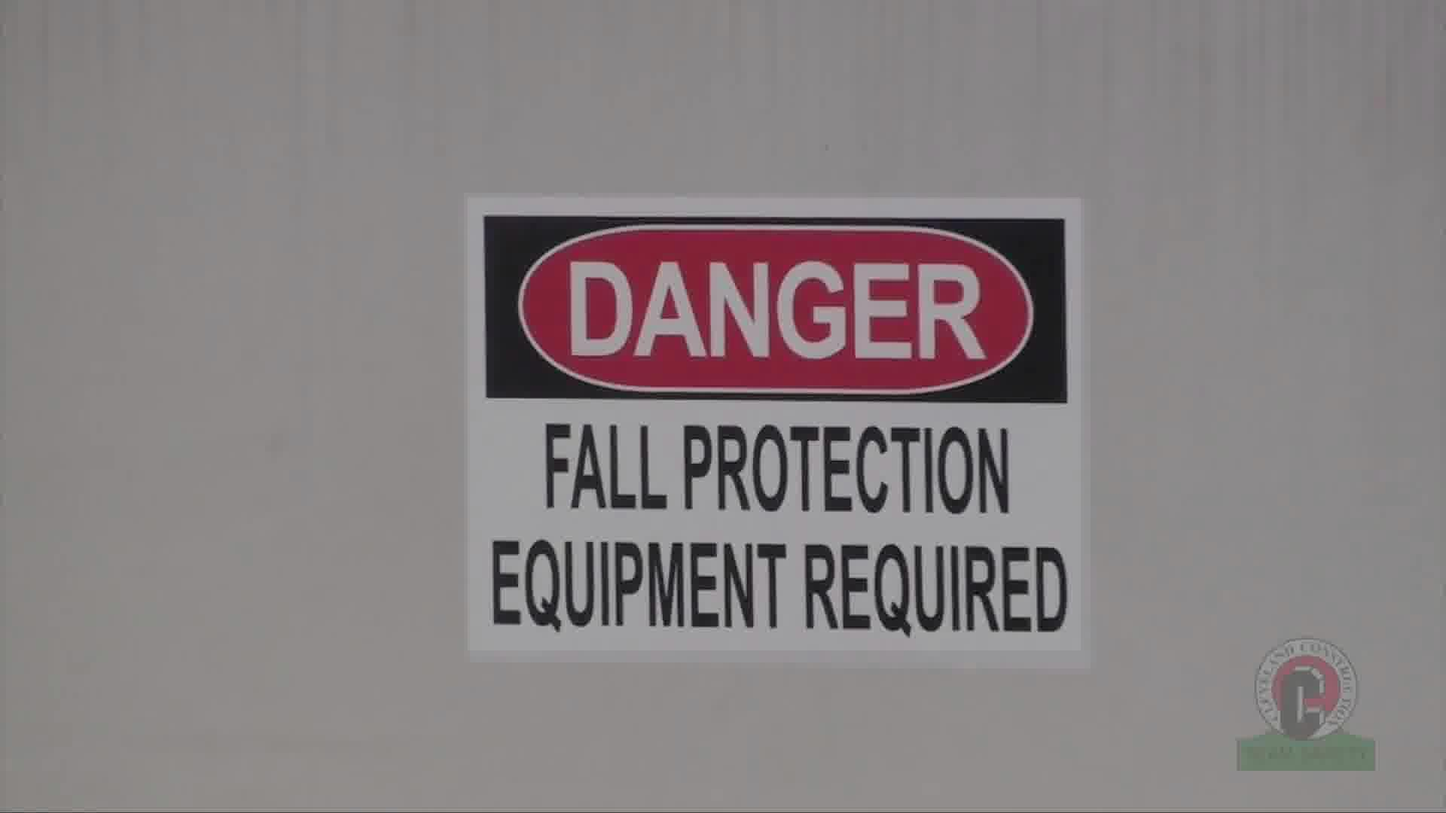safety_signage: (468, 197, 1081, 650)
